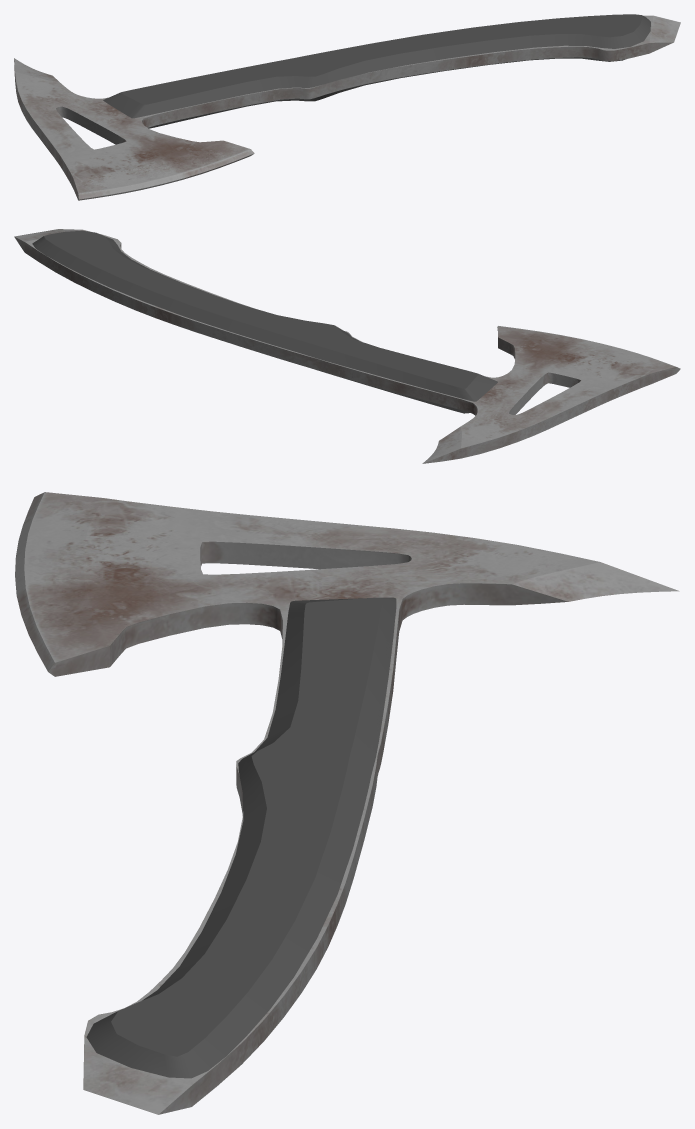
Rendered from tomahawk.glb.
The picture shows the model from 3 angles, top to bottom: view 1: azimuth 30°, elevation 25°; view 2: azimuth 150°, elevation 25°; view 3: azimuth 270°, elevation 25°; orthographic projection. The views are drawn at different scales.
Parts seen in each view (by area): view 1: Plane002, Plane004_09 - Default_0; view 2: Plane002, Plane004_09 - Default_0; view 3: Plane002, Plane004_09 - Default_0.
Part boxes in pixels (x1=…): Plane002: x1=14, y1=15, x2=680, y2=200; Plane004_09 - Default_0: x1=103, y1=14, x2=650, y2=128; Plane002: x1=14, y1=229, x2=680, y2=463; Plane004_09 - Default_0: x1=32, y1=230, x2=497, y2=413; Plane002: x1=15, y1=492, x2=679, y2=1114; Plane004_09 - Default_0: x1=86, y1=597, x2=396, y2=1078.
Size of the model in its own units: 375 by 13.92 by 170.
1 material, 1 textured.
